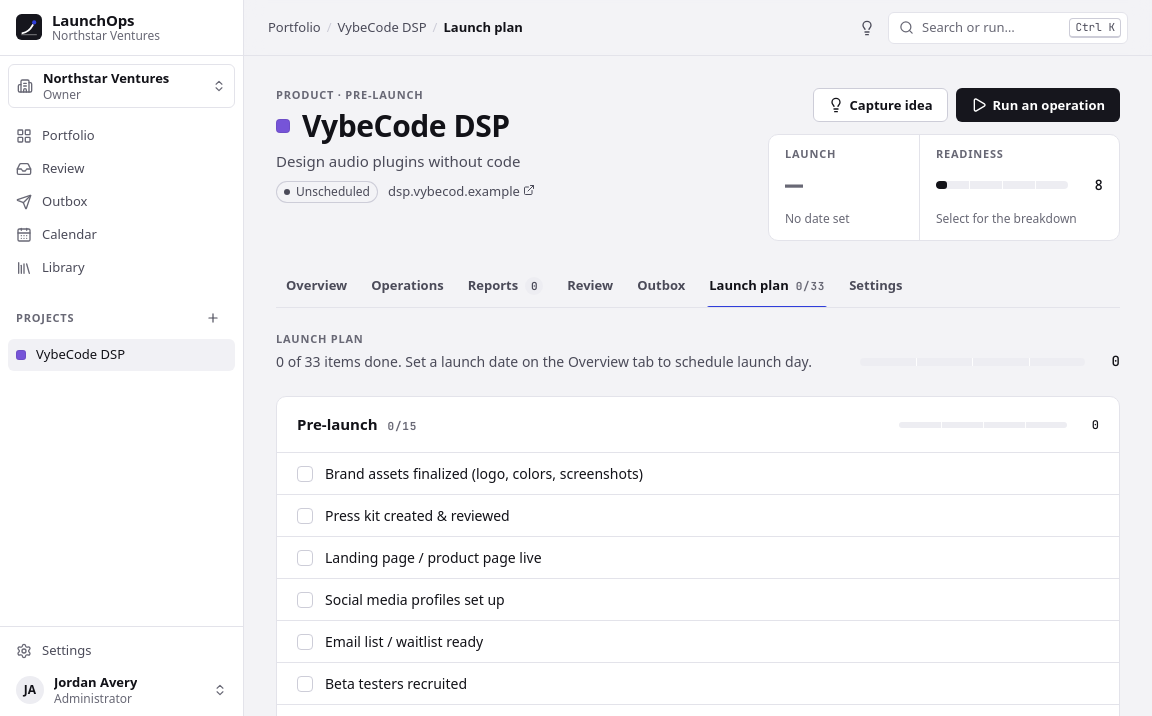
Changes shown before the server confirms them › unticks a launch plan item that couldn't be saved and says why
Click the checkbox labelled "Beta testers recruited": (305, 684) [297, 676, 313, 692]
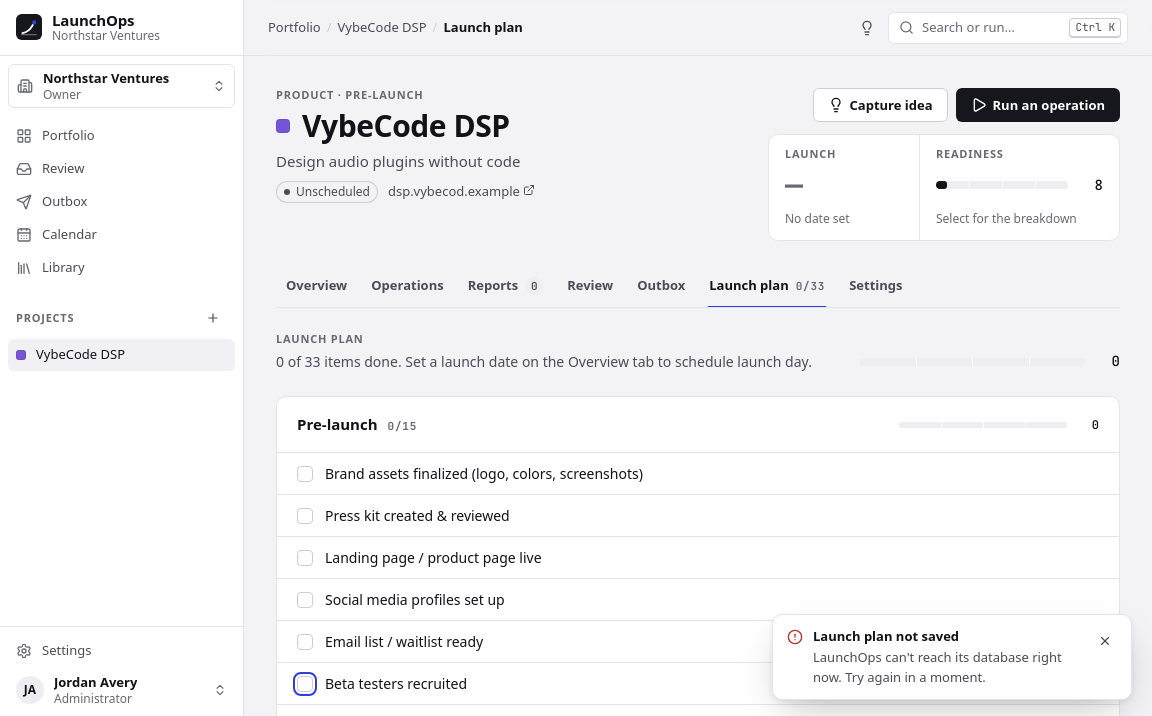
Now the text "Launch plan not saved" is shown, box [813, 626, 959, 644]
Now the text "LaunchOps can't reach its database right now. Try again in a moment." is shown, box [813, 648, 1081, 687]
